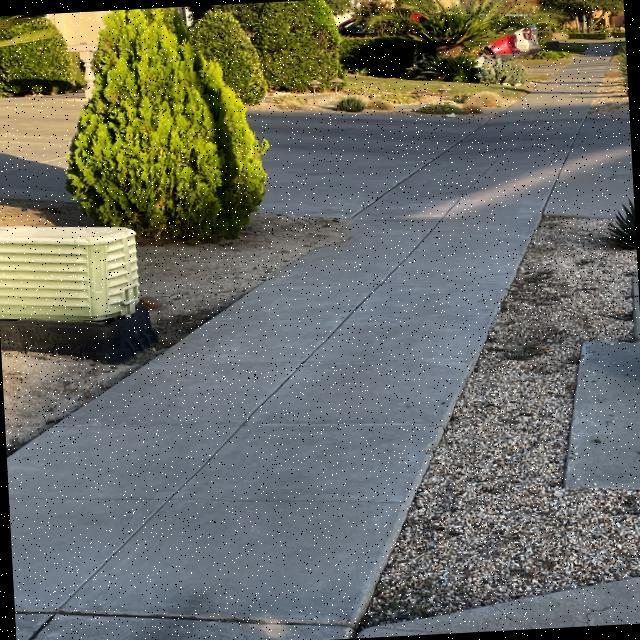walkway: (21, 433, 351, 640), (90, 382, 417, 516), (189, 322, 459, 430), (283, 254, 485, 348), (350, 206, 522, 276), (434, 149, 544, 223), (492, 120, 568, 172), (526, 74, 582, 118)
